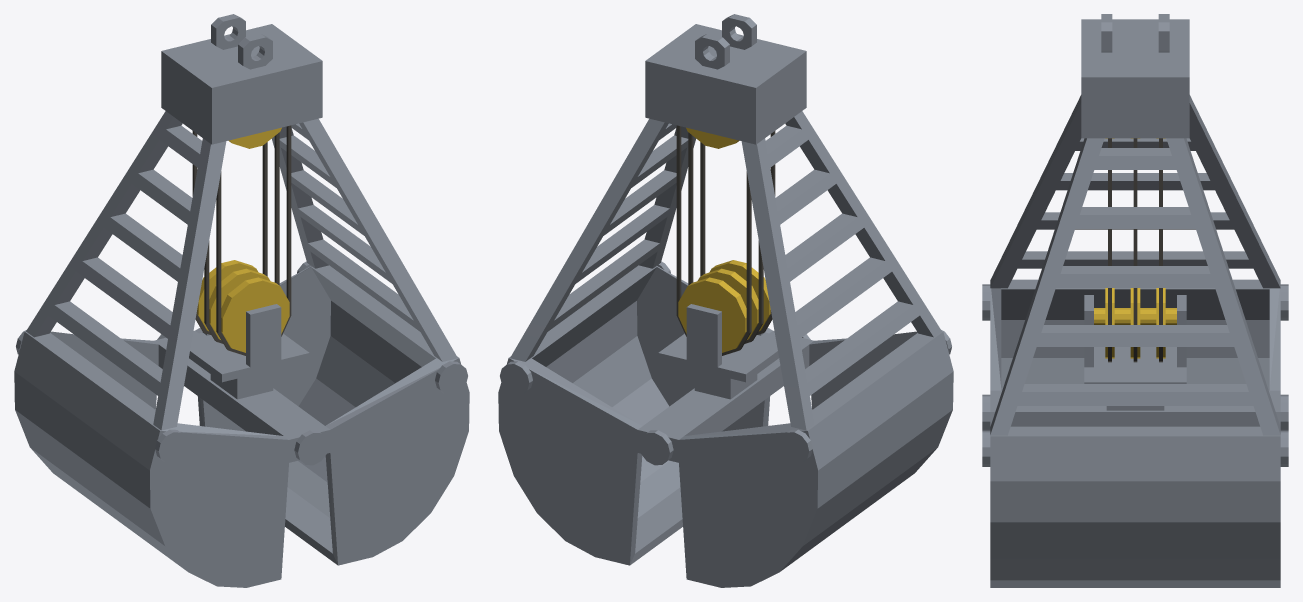
3 views of the same model, side by side, from view 1: azimuth 30°, elevation 25°; view 2: azimuth 150°, elevation 25°; view 3: azimuth 270°, elevation 25° (orthographic). The views are drawn at different scales.
Parts seen in each view (by area): view 1: Left_thick_concave_jaw, Right_thick_concave_jaw, Left_two_link_cross_tied_frame, Rectangular_upper_head, Right_two_link_cross_tied_frame, Common_lower_hinge_beam, Lower_block_open_yoke, Lower_three_sheave_axle, Front_visible_closing_rope, Center_visible_closing_rope, Lower_block_pedestal, Rear_visible_closing_rope (+5 smaller); view 2: Left_thick_concave_jaw, Right_thick_concave_jaw, Left_two_link_cross_tied_frame, Rectangular_upper_head, Right_two_link_cross_tied_frame, Common_lower_hinge_beam, Lower_block_open_yoke, Lower_three_sheave_axle, Rear_visible_closing_rope, Center_visible_closing_rope, Lower_block_pedestal, Front_visible_closing_rope (+5 smaller); view 3: Right_thick_concave_jaw, Right_two_link_cross_tied_frame, Left_thick_concave_jaw, Left_two_link_cross_tied_frame, Rectangular_upper_head, Common_lower_hinge_beam, Lower_block_open_yoke, Lower_three_sheave_axle, Center_visible_closing_rope, Front_visible_closing_rope, Rear_visible_closing_rope, Front_upper_lifting_lug (+1 smaller).
Boxes of the visible parts, <box> form: Left_thick_concave_jaw: <box>14,331,288,587</box>; Right_thick_concave_jaw: <box>195,265,469,565</box>; Left_two_link_cross_tied_frame: <box>26,111,226,430</box>; Rectangular_upper_head: <box>161,24,322,144</box>; Right_two_link_cross_tied_frame: <box>271,118,457,361</box>; Common_lower_hinge_beam: <box>154,330,330,462</box>; Lower_block_open_yoke: <box>189,304,309,382</box>; Lower_three_sheave_axle: <box>197,260,289,352</box>; Front_visible_closing_rope: <box>216,125,291,355</box>; Center_visible_closing_rope: <box>204,132,279,343</box>; Lower_block_pedestal: <box>210,370,273,399</box>; Rear_visible_closing_rope: <box>192,131,267,335</box>; Left_thick_concave_jaw: <box>679,331,953,587</box>; Right_thick_concave_jaw: <box>498,265,772,565</box>; Left_two_link_cross_tied_frame: <box>741,111,941,430</box>; Rectangular_upper_head: <box>645,24,806,144</box>; Right_two_link_cross_tied_frame: <box>510,118,696,361</box>; Common_lower_hinge_beam: <box>637,330,813,462</box>; Lower_block_open_yoke: <box>658,304,778,382</box>; Lower_three_sheave_axle: <box>678,260,770,352</box>; Rear_visible_closing_rope: <box>676,125,751,355</box>; Center_visible_closing_rope: <box>688,132,763,343</box>; Lower_block_pedestal: <box>694,370,757,399</box>; Front_visible_closing_rope: <box>700,131,775,335</box>; Right_thick_concave_jaw: <box>990,412,1280,587</box>; Right_two_link_cross_tied_frame: <box>990,138,1280,435</box>; Left_thick_concave_jaw: <box>990,279,1280,390</box>; Left_two_link_cross_tied_frame: <box>990,95,1280,288</box>; Rectangular_upper_head: <box>1081,19,1189,138</box>; Common_lower_hinge_beam: <box>990,390,1280,426</box>; Lower_block_open_yoke: <box>1084,295,1186,383</box>; Lower_three_sheave_axle: <box>1094,288,1176,358</box>; Center_visible_closing_rope: <box>1133,138,1137,362</box>; Front_visible_closing_rope: <box>1108,138,1111,362</box>; Rear_visible_closing_rope: <box>1159,138,1162,362</box>; Front_upper_lifting_lug: <box>1101,14,1112,52</box>.
Size of the model in its own units: 2.48 by 3.67 by 1.92.
